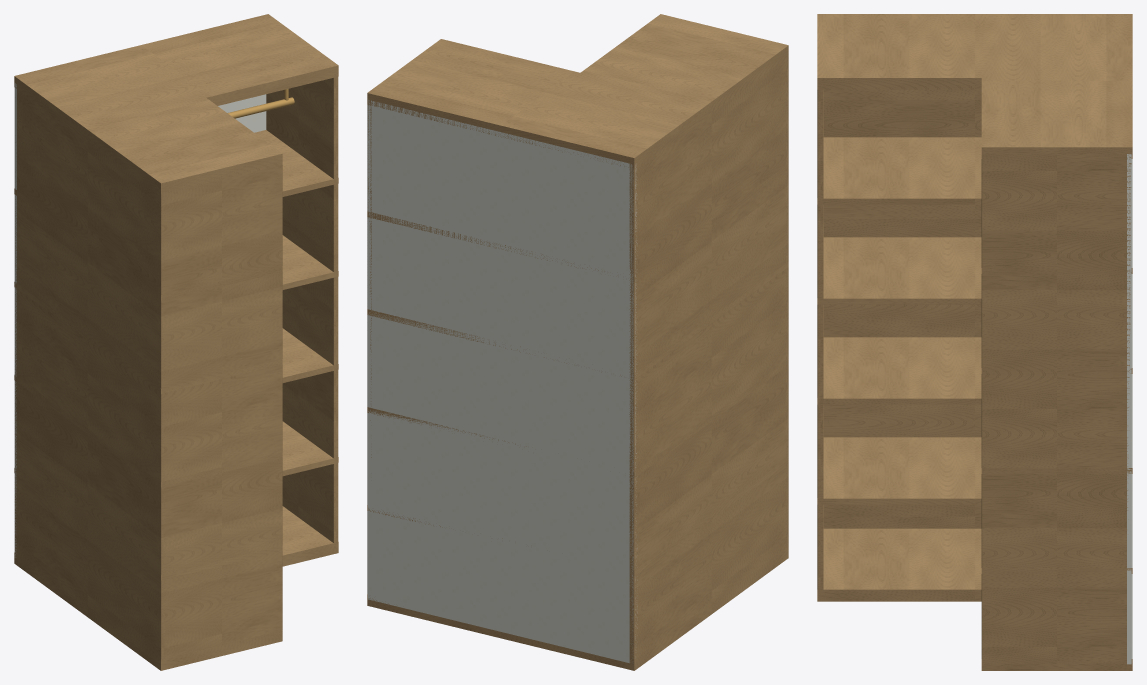
3 renders of one model, left to right at view 1: azimuth 30°, elevation 25°; view 2: azimuth 150°, elevation 25°; view 3: azimuth 270°, elevation 25°, orthographic. The views are drawn at different scales.
Parts seen in each view (by area): view 1: Corner left wall, Corner front end cheek, L-shaped corner cabinet slab.005, Corner short end cheek, L-shaped corner cabinet slab, L-shaped corner cabinet slab.004, L-shaped corner cabinet slab.002, L-shaped corner cabinet slab.003, L-shaped corner cabinet slab.001, Corner rear wall, Corner hanging rod; view 2: Corner rear wall, Corner left wall, L-shaped corner cabinet slab.005, L-shaped corner cabinet slab, L-shaped corner cabinet slab.003, L-shaped corner cabinet slab.004, L-shaped corner cabinet slab.002, Corner front end cheek, L-shaped corner cabinet slab.001; view 3: Corner short end cheek, L-shaped corner cabinet slab.005, Corner left wall, L-shaped corner cabinet slab, L-shaped corner cabinet slab.002, L-shaped corner cabinet slab.001, L-shaped corner cabinet slab.003, L-shaped corner cabinet slab.004, Corner front end cheek, Corner rear wall.
Boxes of the visible parts, box(x1,y1,x2,y2) form: Corner left wall: box(14, 89, 165, 664); Corner front end cheek: box(158, 160, 282, 662); L-shaped corner cabinet slab.005: box(14, 14, 338, 194); Corner short end cheek: box(266, 72, 338, 547); L-shaped corner cabinet slab: box(14, 506, 338, 670); L-shaped corner cabinet slab.004: box(14, 130, 338, 301); L-shaped corner cabinet slab.002: box(14, 328, 338, 487); L-shaped corner cabinet slab.003: box(14, 235, 338, 394); L-shaped corner cabinet slab.001: box(14, 421, 338, 580); Corner rear wall: box(14, 83, 266, 557); Corner hanging rod: box(227, 97, 294, 118); Corner rear wall: box(367, 100, 637, 663); Corner left wall: box(629, 57, 788, 663); L-shaped corner cabinet slab.005: box(367, 14, 788, 169); L-shaped corner cabinet slab: box(367, 547, 788, 670); L-shaped corner cabinet slab.003: box(367, 262, 788, 379); L-shaped corner cabinet slab.004: box(367, 164, 788, 282); L-shaped corner cabinet slab.002: box(367, 359, 788, 477); Corner front end cheek: box(786, 57, 788, 547); L-shaped corner cabinet slab.001: box(367, 457, 788, 575); Corner short end cheek: box(981, 154, 1131, 663); L-shaped corner cabinet slab.005: box(817, 14, 1132, 158); Corner left wall: box(823, 89, 981, 528); L-shaped corner cabinet slab: box(817, 528, 1132, 670); L-shaped corner cabinet slab.002: box(817, 337, 1132, 473); L-shaped corner cabinet slab.001: box(817, 437, 1132, 573); L-shaped corner cabinet slab.003: box(817, 237, 1132, 373); L-shaped corner cabinet slab.004: box(817, 137, 1132, 273); Corner front end cheek: box(817, 84, 823, 593); Corner rear wall: box(1127, 154, 1132, 664).
Bounding box in the file's own units: 1.2 × 2.2 × 1.2.
Materials: 3 (3 with a texture image).
